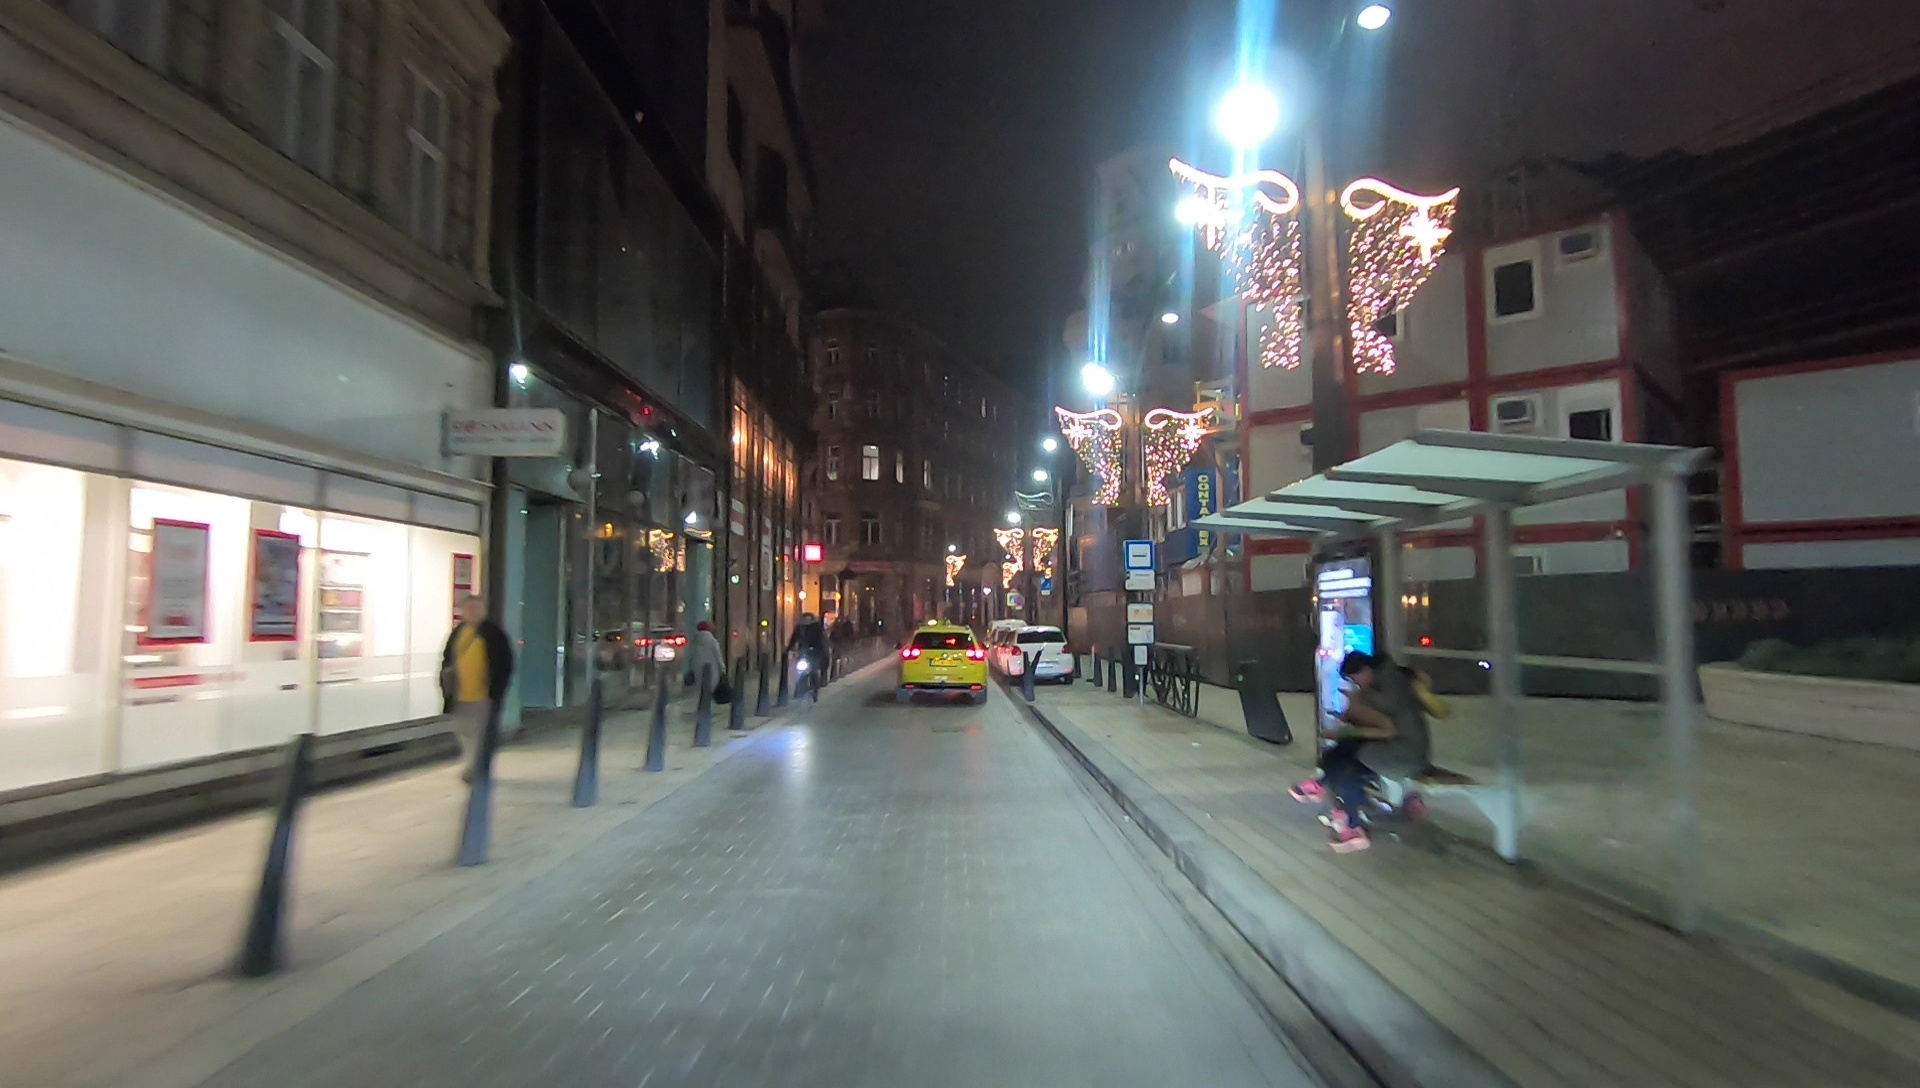person: (434, 595, 512, 802), (686, 621, 723, 728)
